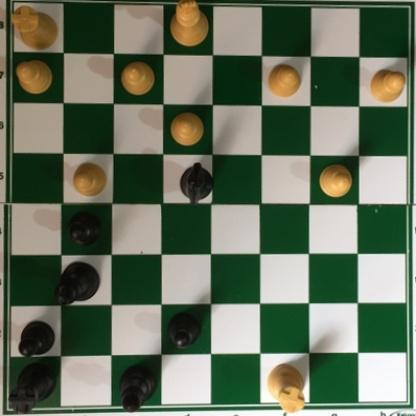black-bishop: (119, 362, 161, 415)
black-king: (55, 260, 104, 306)
black-knight: (180, 162, 216, 209)
black-pawn: (167, 311, 205, 349), (18, 321, 56, 359), (68, 212, 103, 247)
black-rook: (9, 361, 55, 415)
white-king: (169, 0, 216, 50)
white-pawn: (368, 69, 407, 108), (317, 162, 356, 200), (265, 63, 304, 101), (12, 59, 54, 94), (71, 161, 108, 200), (169, 109, 205, 148), (119, 61, 158, 97)
white-rook: (9, 5, 62, 55), (266, 362, 307, 415)
